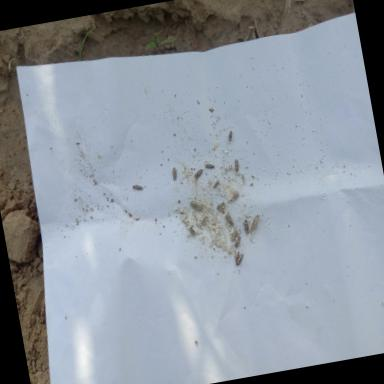pbw: (233, 250, 247, 266), (224, 208, 235, 228), (202, 160, 217, 170), (132, 180, 144, 192), (242, 218, 250, 234), (230, 229, 240, 241), (194, 168, 204, 180), (172, 166, 180, 180), (216, 200, 226, 210), (227, 130, 235, 142), (234, 236, 242, 248), (234, 159, 240, 173), (201, 216, 208, 226), (213, 180, 220, 188), (219, 205, 226, 212)
